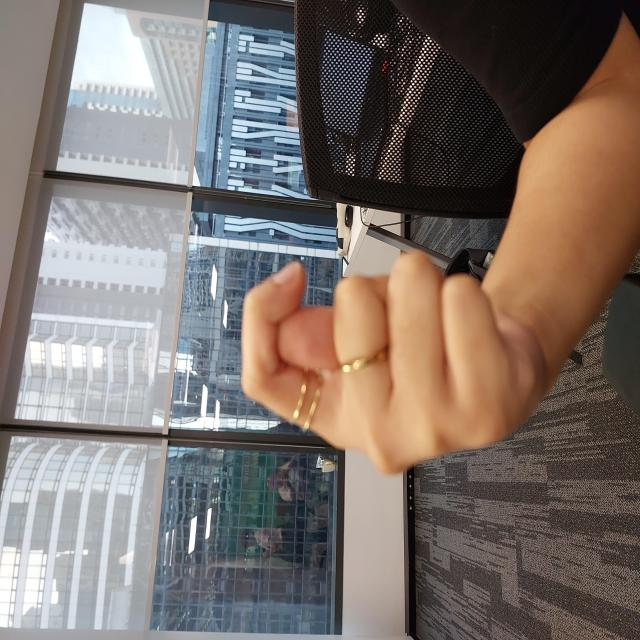T: (163, 237, 394, 545)
